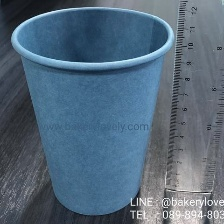paper_cup: (6, 2, 178, 220)
